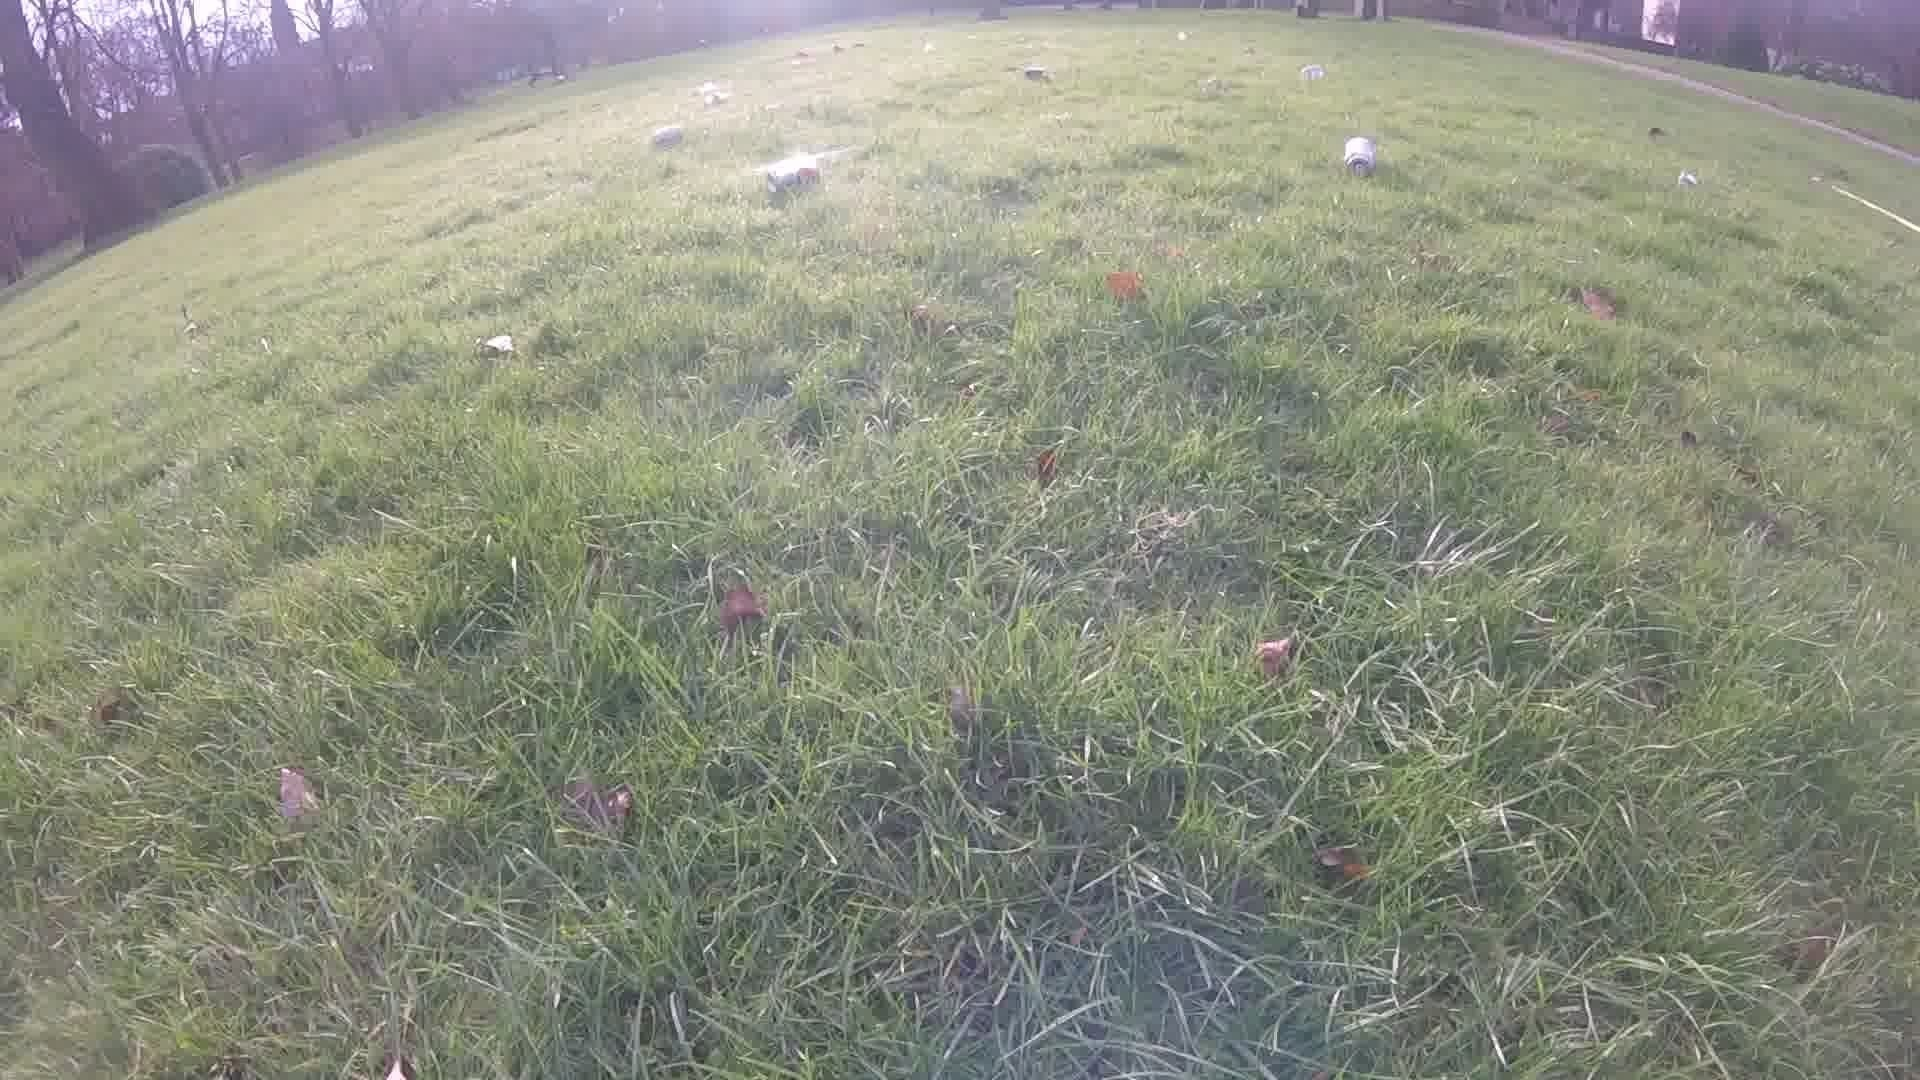litter: (756, 161, 824, 195), (1342, 136, 1378, 179), (644, 127, 682, 148), (1665, 174, 1706, 193), (1019, 65, 1054, 84), (696, 87, 731, 105), (1296, 61, 1328, 79), (1643, 127, 1675, 142), (918, 40, 940, 57), (1203, 78, 1226, 94), (789, 50, 811, 65), (1174, 22, 1185, 45), (823, 44, 847, 54), (1237, 46, 1258, 57)
